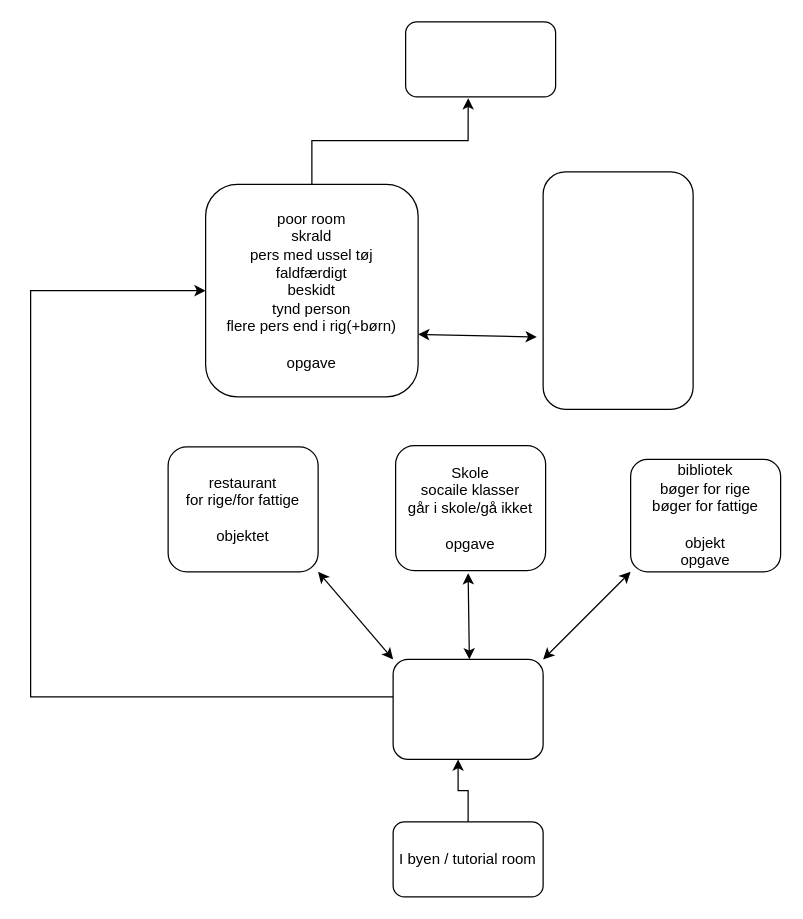
This 803x919 diagram has some shape labels left out. The shapes that lost their labels are listed below. From the top down, each one's box as (x1, y1, x2, y2) in pixels, then its label:
(404, 21, 556, 97): GAME OVER SCREEN
(542, 171, 693, 409): rich room rich person big bed $$ poser med penge Bil swimmingpool objekt
(392, 658, 543, 759): station 1.st class low class boolean = rum/ingen <>
